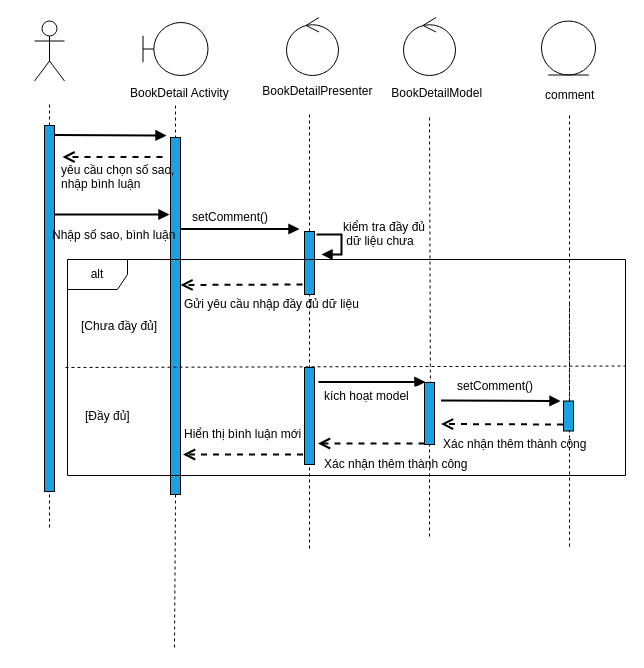
The diagram is 644 pixels wide and 668 high, and some of its shapes have lost their labels. Each missing label, with the centre of its shape:
"Chọn chức năng bình luận" belongs at pixel 132 120.
"Người dùng" belongs at pixel 49 50.
